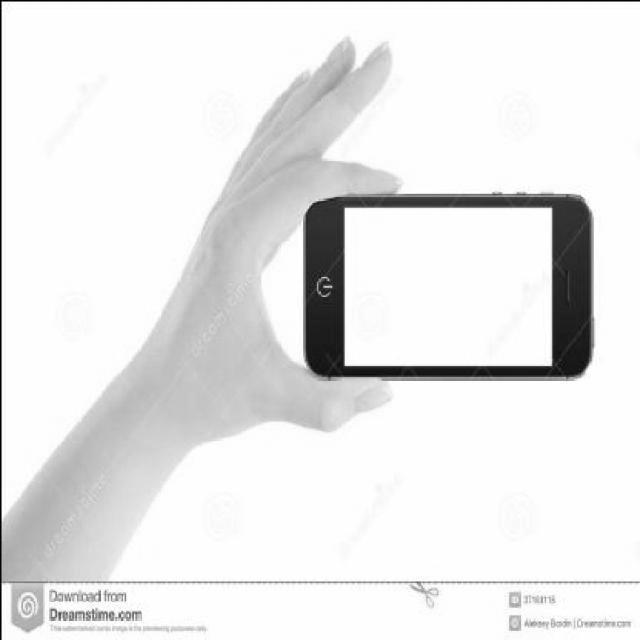fake: (298, 190, 598, 378)
